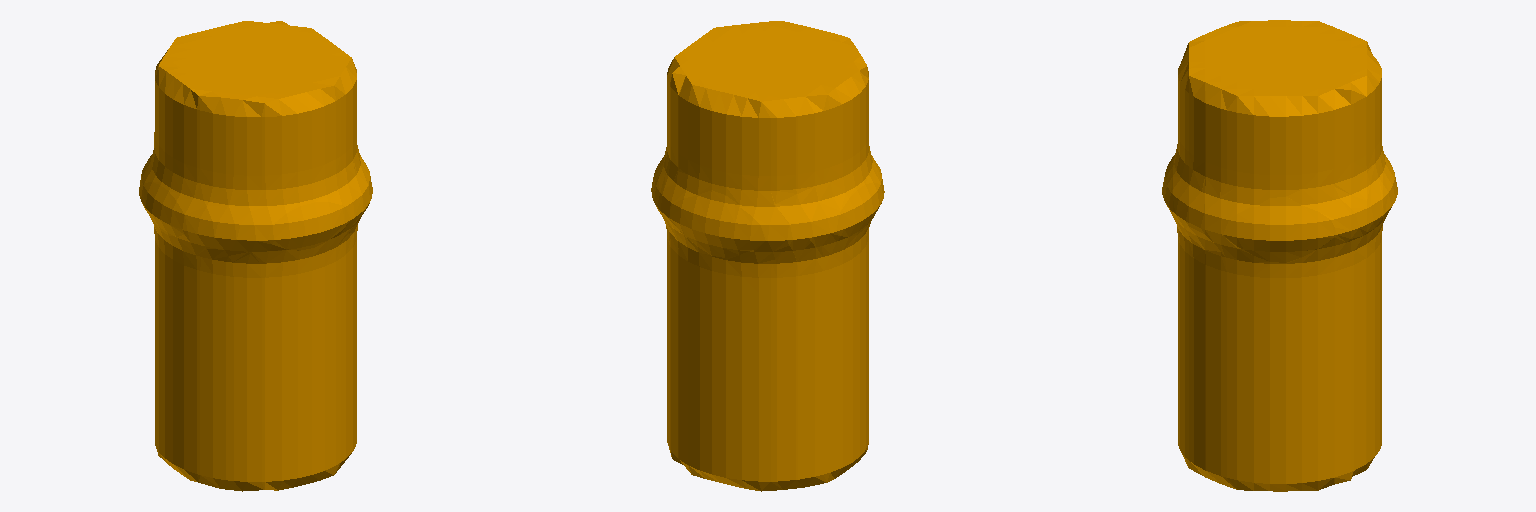
robot.urdf — cylinder_../../meshes/cylinders/cylinder_32.stl:
<?xml version="1.0" encoding="utf-8"?>  <robot name="cylinder_../../meshes/cylinders/cylinder_32.stl">   <link name="cylinder_../../meshes/cylinders/cylinder_32.stl">     <visual>       <geometry>         <mesh filename="../meshes/cylinders/cylinder_32.stl" scale="1 1 1"/>       </geometry>     </visual>     <collision>       <geometry>         <mesh filename="../meshes/cylinders/cylinder_32.stl" scale="1 1 1"/>       </geometry>     </collision>     <inertial>        <origin         xyz="0 0 0"         rpy="0 0 0" />       <mass value="0.42917933456572294"/>       <origin rpy="0 0 0" xyz="0 0 0"/>       <inertia ixx="0.0007378200744737264" ixy="-2.987970638562798e-08" ixz="6.902883410268273e-08" iyy="0.0007378199959530238" iyz="8.284277262974935e-08" izz="0.00021933225603024725"/>     </inertial>   </link>  </robot>

--- Render facts (derived) ---
3 views of the same robot in one strip: view 1: azimuth 30°, elevation 25°; view 2: azimuth 150°, elevation 25°; view 3: azimuth 270°, elevation 25° (orthographic).
Model cylinder_../../meshes/cylinders/cylinder_32.stl with 1 links and 0 joints (none), rooted at cylinder_../../meshes/cylinders/cylinder_32.stl, posed all joints at 0.
Visible links, largest first — view 1: cylinder_../../meshes/cylinders/cylinder_32.stl; view 2: cylinder_../../meshes/cylinders/cylinder_32.stl; view 3: cylinder_../../meshes/cylinders/cylinder_32.stl.
Boxes of the visible links, x1,y1,x2,y2 form: cylinder_../../meshes/cylinders/cylinder_32.stl: (139, 21, 372, 491); cylinder_../../meshes/cylinders/cylinder_32.stl: (651, 21, 884, 491); cylinder_../../meshes/cylinders/cylinder_32.stl: (1162, 20, 1397, 491).
Size in the robot's own frame: 0.0726 by 0.0726 by 0.1346 metres.
Meshes: 1 distinct files referenced, 1 mesh visuals loaded (1 binary STL).